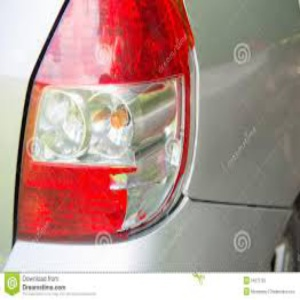tail_lights: (15, 2, 199, 229)
